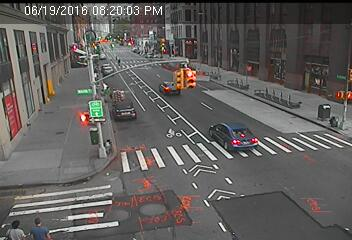neg: (84, 123, 102, 147), (317, 100, 333, 122), (154, 36, 168, 56), (213, 59, 226, 76), (283, 91, 295, 108), (241, 76, 253, 92), (128, 36, 135, 46)
pos: (28, 214, 47, 239), (8, 217, 24, 239), (114, 56, 124, 69)
